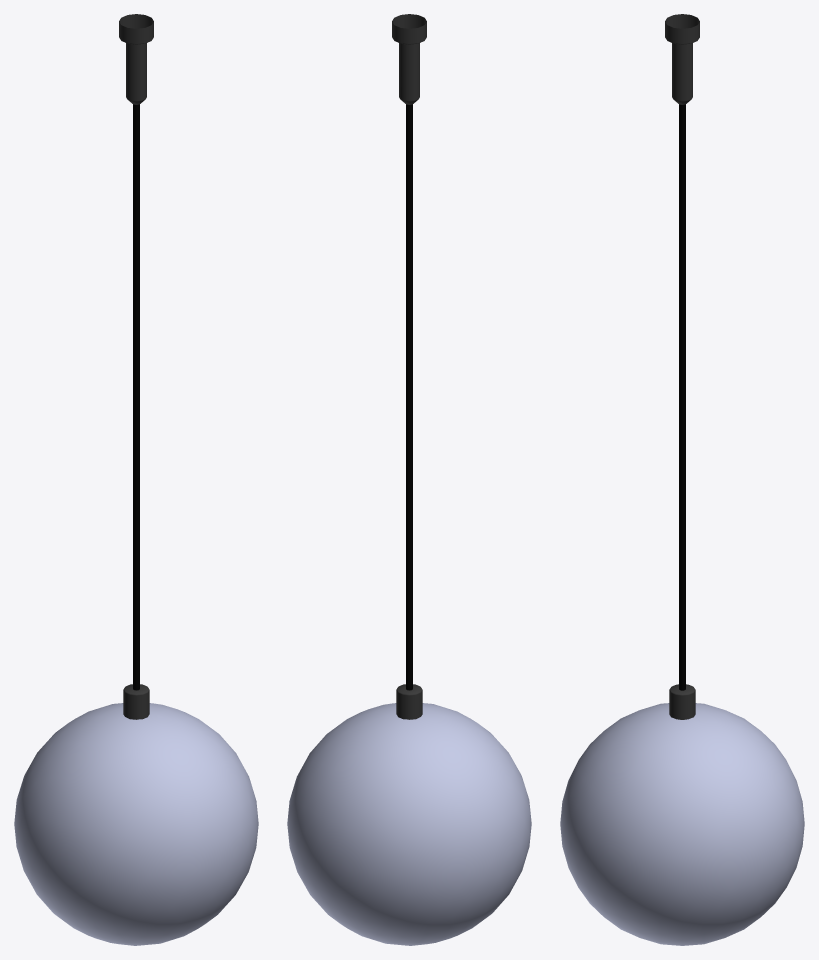
Rendered from SM_PendantLight_009b.FBX.
The picture shows the model from 3 angles, left to right: view 1: azimuth 30°, elevation 25°; view 2: azimuth 150°, elevation 25°; view 3: azimuth 270°, elevation 25°; orthographic projection.
Visible parts, largest first — view 1: SM_PendantLight_009b; view 2: SM_PendantLight_009b; view 3: SM_PendantLight_009b.
Part boxes in pixels (bbox=[...]): SM_PendantLight_009b: bbox=[14, 14, 258, 945]; SM_PendantLight_009b: bbox=[287, 14, 531, 945]; SM_PendantLight_009b: bbox=[560, 14, 804, 945].
Bounding box in the file's own units: 22.35 × 22.48 × 92.64.
